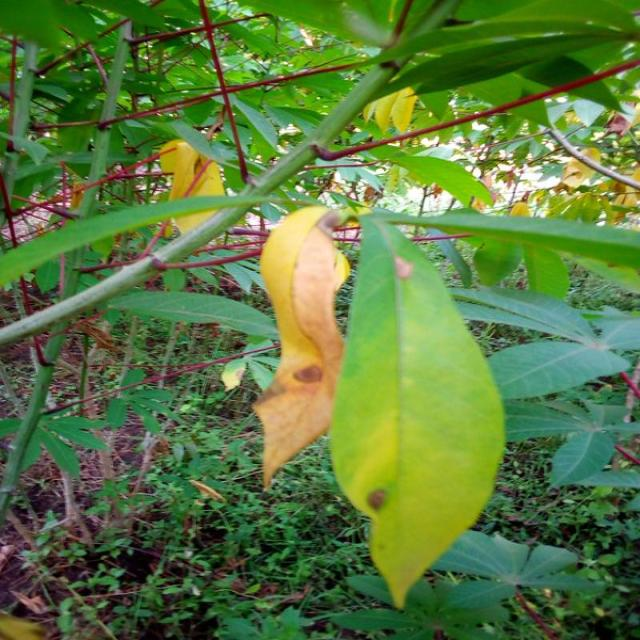cassava leaf: (328, 209, 506, 610), (250, 202, 350, 490)
